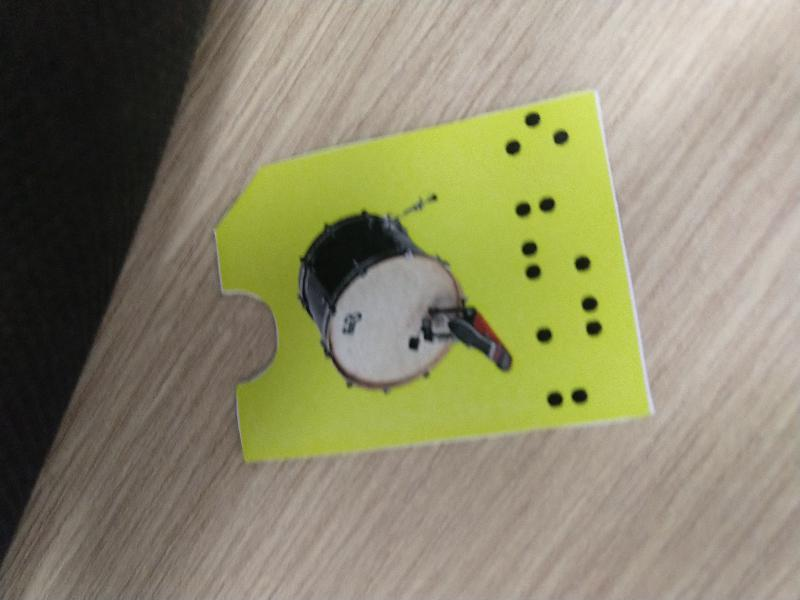bumbo: (210, 82, 658, 463)
